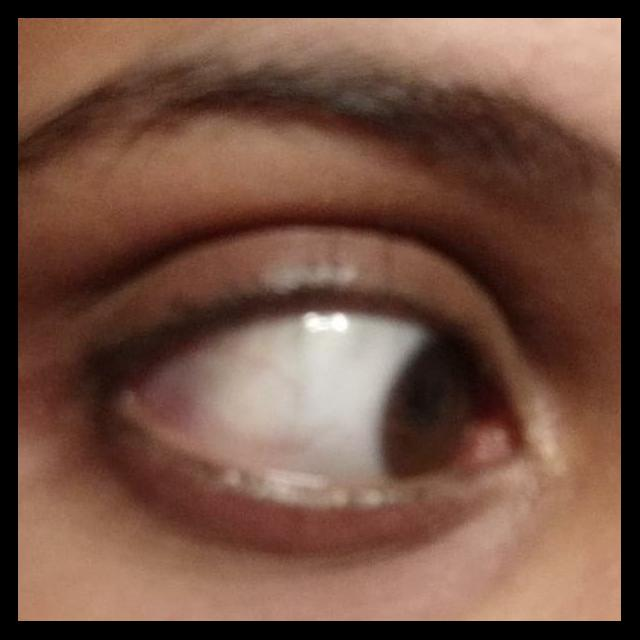eye: (118, 303, 487, 499)
iris: (383, 324, 483, 494)
